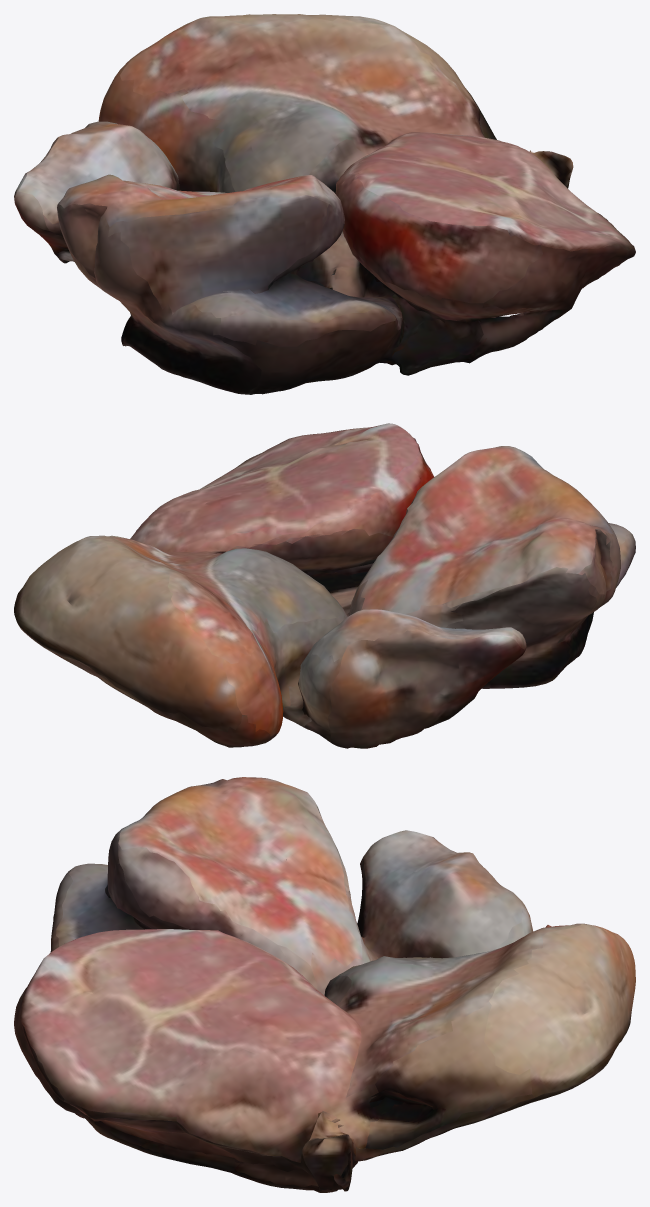
The model's file is rock-cluster.glb.
The picture shows the model from 3 angles, top to bottom: view 1: azimuth 30°, elevation 25°; view 2: azimuth 150°, elevation 25°; view 3: azimuth 270°, elevation 25°; orthographic projection. The views are drawn at different scales.
Parts seen in each view (by area): view 1: rocks-lit_s42_m.glb; view 2: rocks-lit_s42_m.glb; view 3: rocks-lit_s42_m.glb.
Part boxes in pixels (bbox=[...]): rocks-lit_s42_m.glb: bbox=[14, 14, 635, 394]; rocks-lit_s42_m.glb: bbox=[14, 423, 635, 748]; rocks-lit_s42_m.glb: bbox=[14, 777, 635, 1192].
Size of the model in its own units: 2 by 0.6994 by 2.
Materials: 1 (1 with a texture image).
